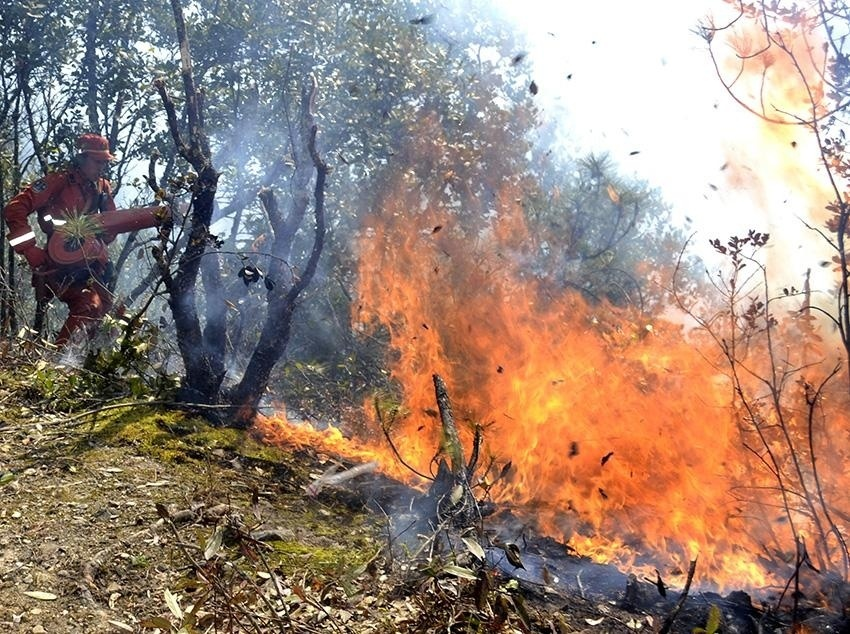fire: (342, 177, 839, 597)
